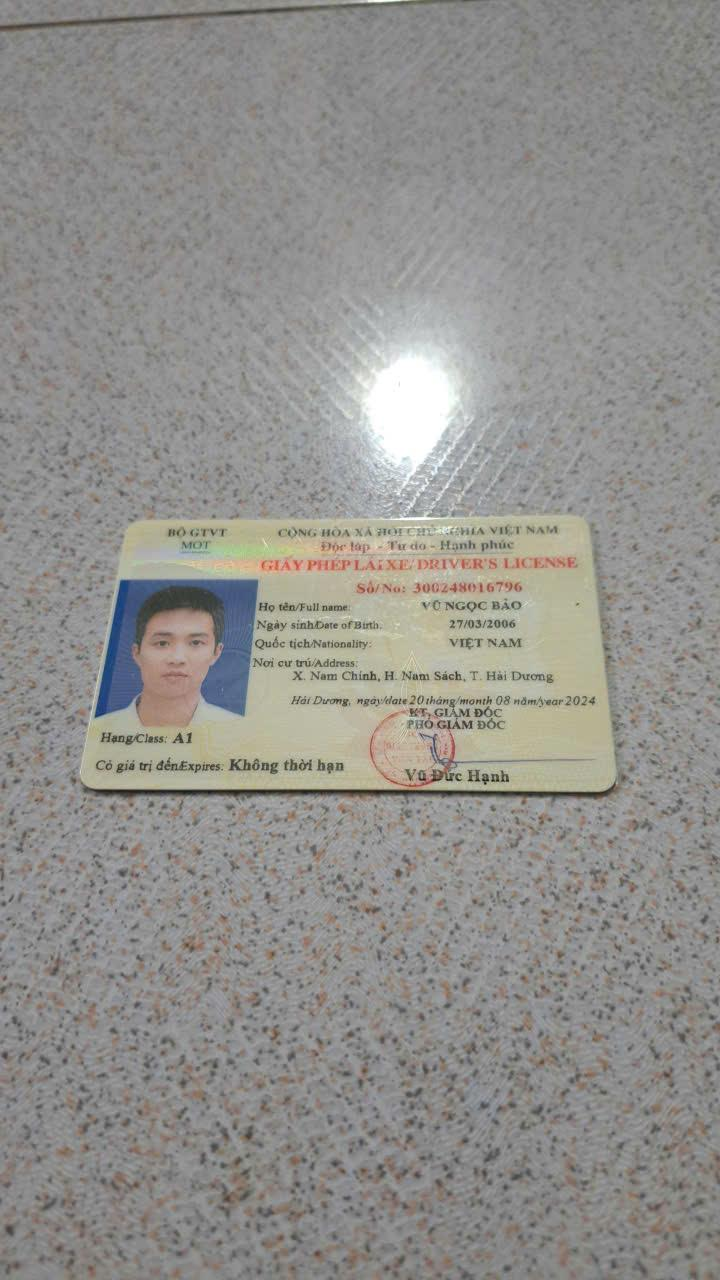gplx: (64, 509, 630, 797)
